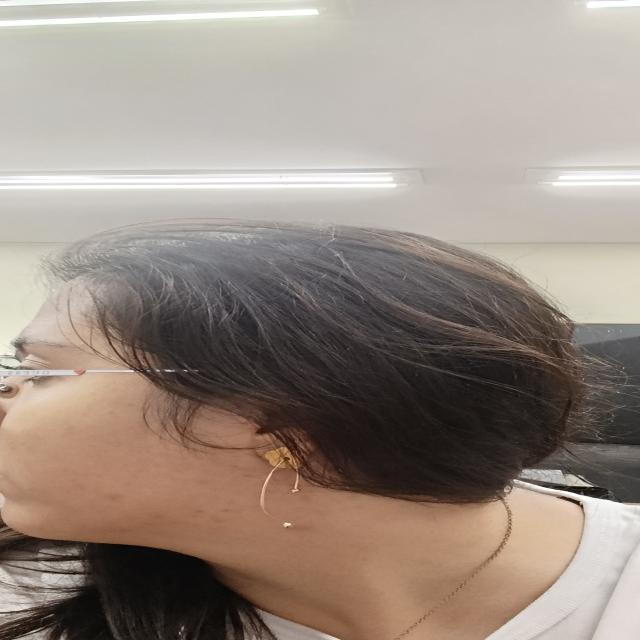sem_oculos: (0, 368, 136, 378), (143, 369, 178, 373)
